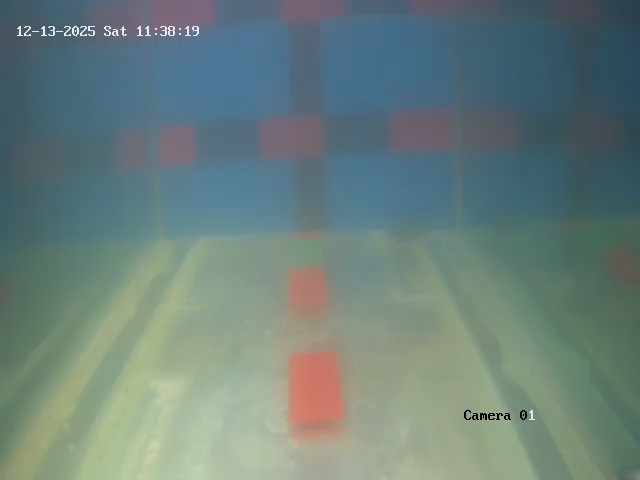fish: (383, 213, 430, 247)
